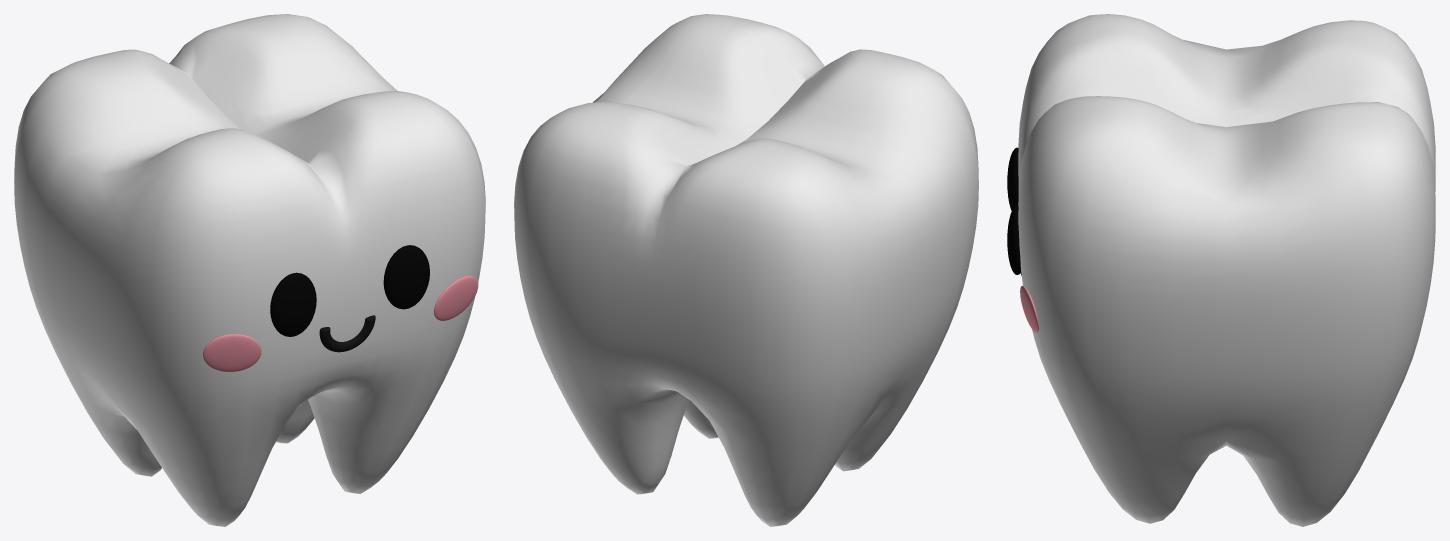
File: gigisehat.glb
The picture shows the model from 3 angles, left to right: view 1: azimuth 30°, elevation 25°; view 2: azimuth 150°, elevation 25°; view 3: azimuth 270°, elevation 25°; orthographic projection. The views are drawn at different scales.
Visible parts, largest first — view 1: Cube, Plane, Plane.001, Torus; view 2: Cube; view 3: Cube, Plane, Plane.001.
Boxes of the visible parts, <box> form: Cube: <box>14,14,485,526</box>; Plane: <box>270,245,429,336</box>; Plane.001: <box>203,276,478,371</box>; Torus: <box>319,315,375,352</box>; Cube: <box>514,14,978,526</box>; Cube: <box>1018,14,1435,526</box>; Plane: <box>1007,147,1020,274</box>; Plane.001: <box>1020,285,1038,332</box>.
Size of the model in its own units: 2.57 by 2.75 by 2.52.
